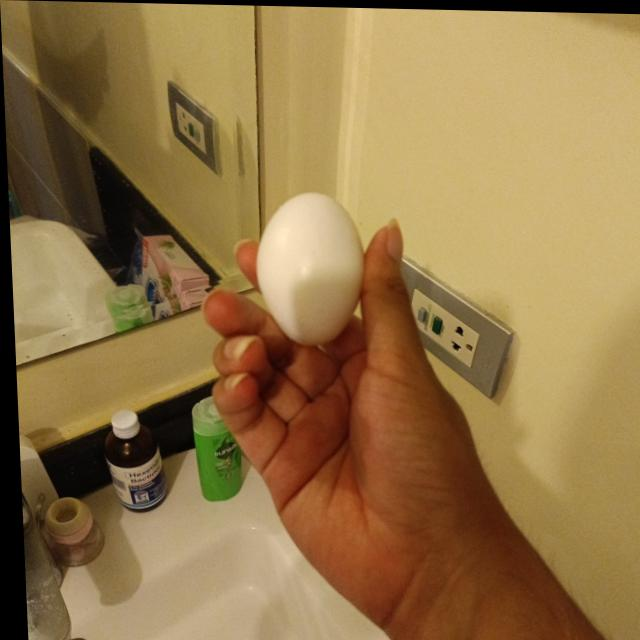egg: (254, 189, 364, 336)
